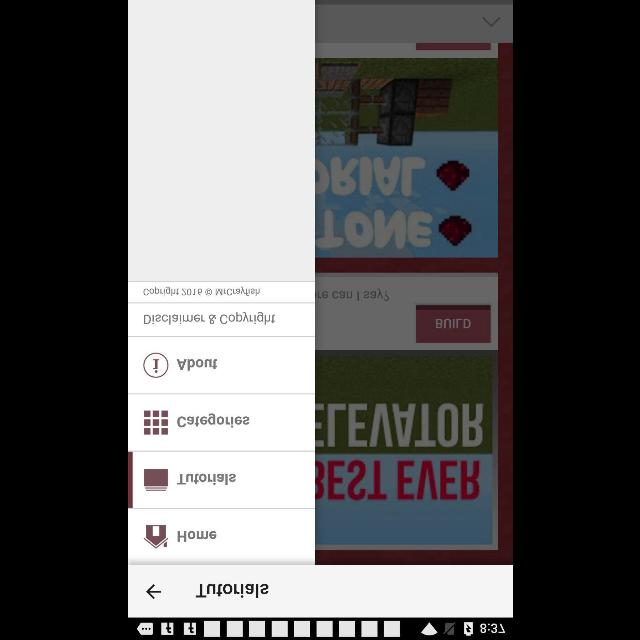icon: (142, 352, 168, 378), (142, 410, 168, 434), (142, 468, 168, 492), (142, 525, 168, 549), (146, 583, 160, 599)
panel: (128, 0, 314, 564)
text: (143, 312, 275, 324), (143, 286, 260, 296), (176, 412, 248, 428), (195, 584, 269, 598), (175, 473, 235, 485), (176, 358, 218, 372), (176, 530, 216, 542)
toolbar: (128, 565, 512, 617)
uppertaskbar: (128, 617, 512, 639)
